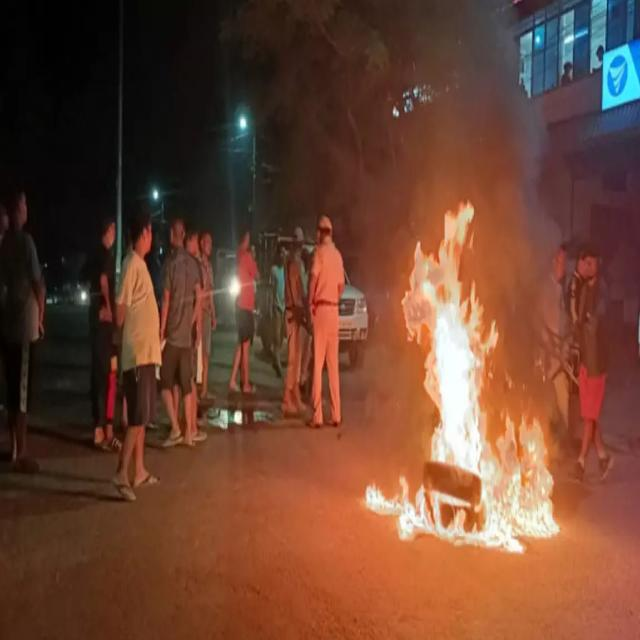fire: (369, 197, 562, 555)
